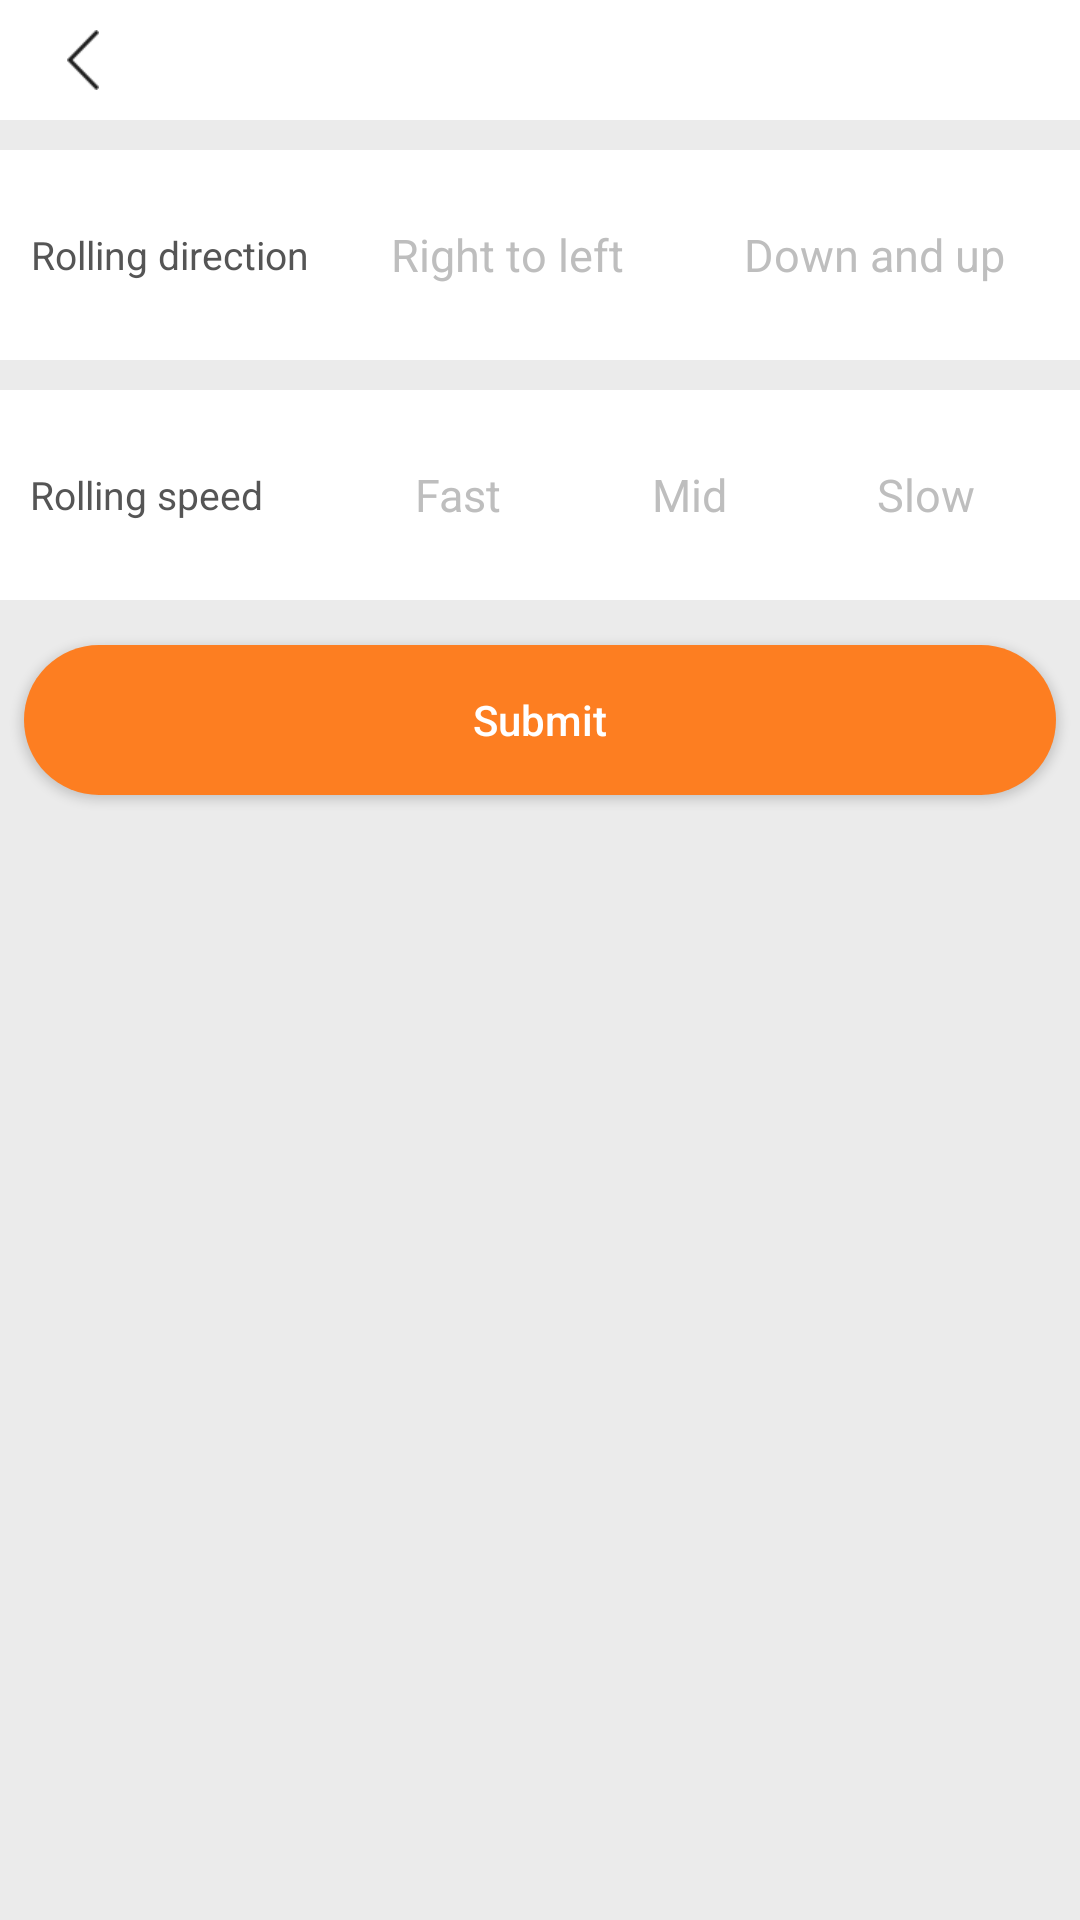

Named icons in this screenshot (1080 × 1920) and their bounding boxes, (x1, y1, x2, y2):
back: (67, 30, 99, 90)
